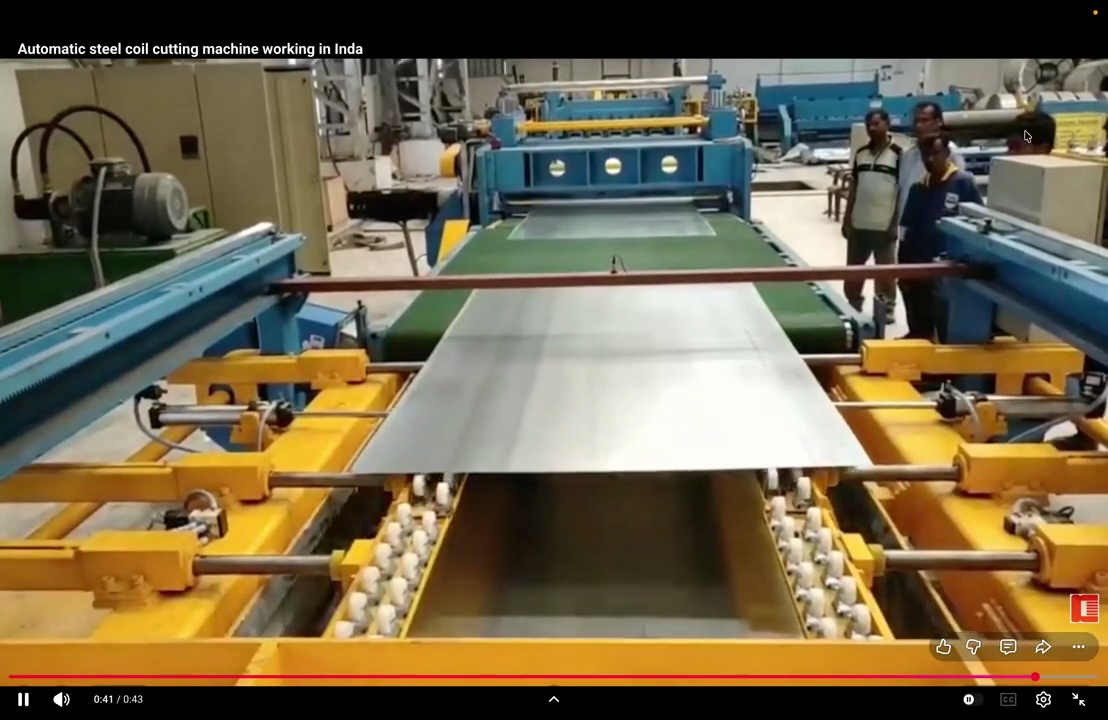steel plate: (353, 284, 869, 473), (509, 202, 714, 239)
